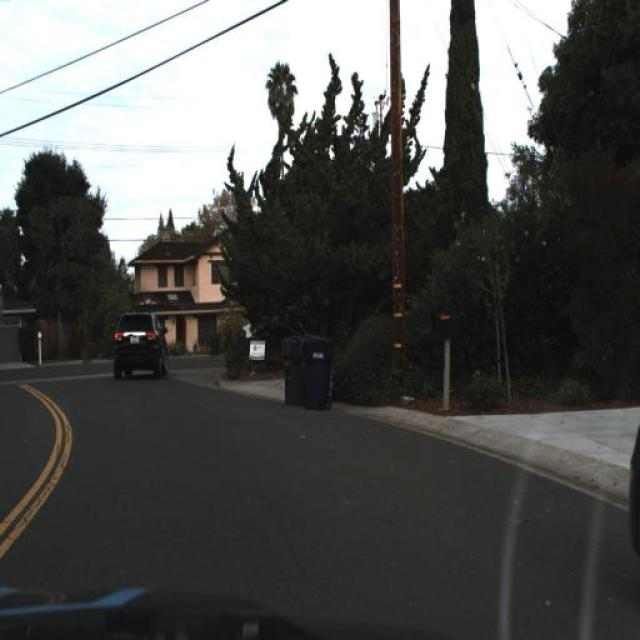car: (106, 303, 180, 385)
